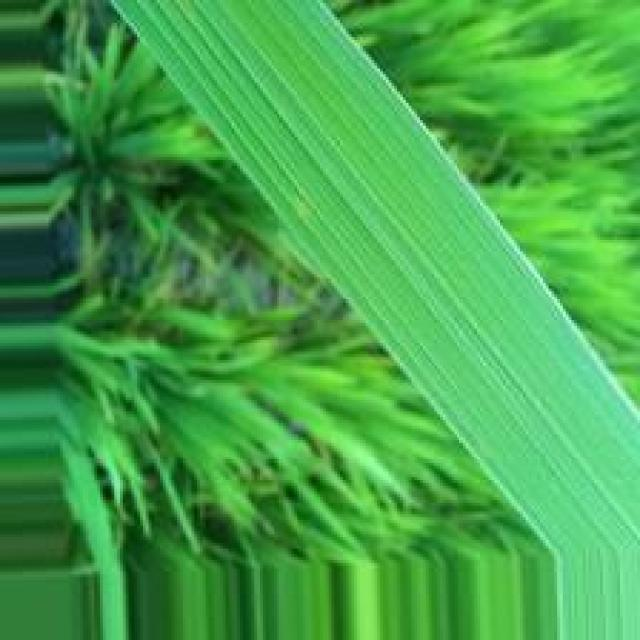HealthyLeaf: (114, 1, 635, 550)
